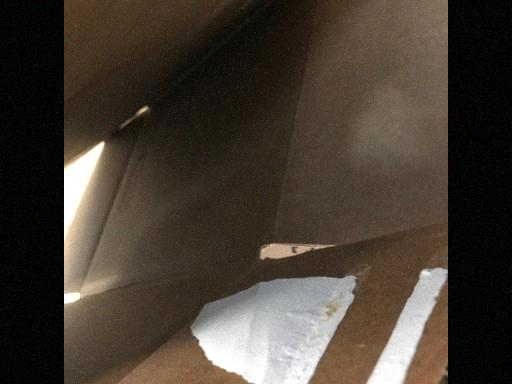cardboard: (67, 4, 447, 384)
